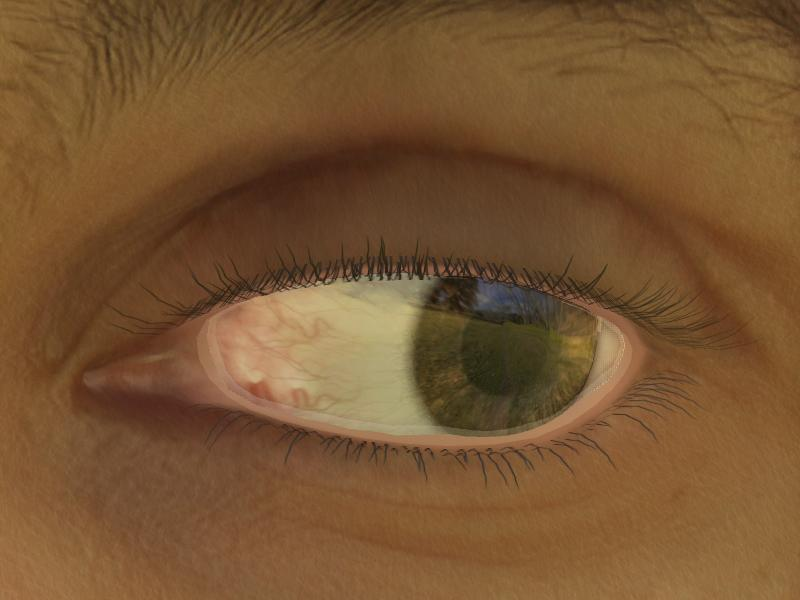eye: (414, 272, 594, 433)
